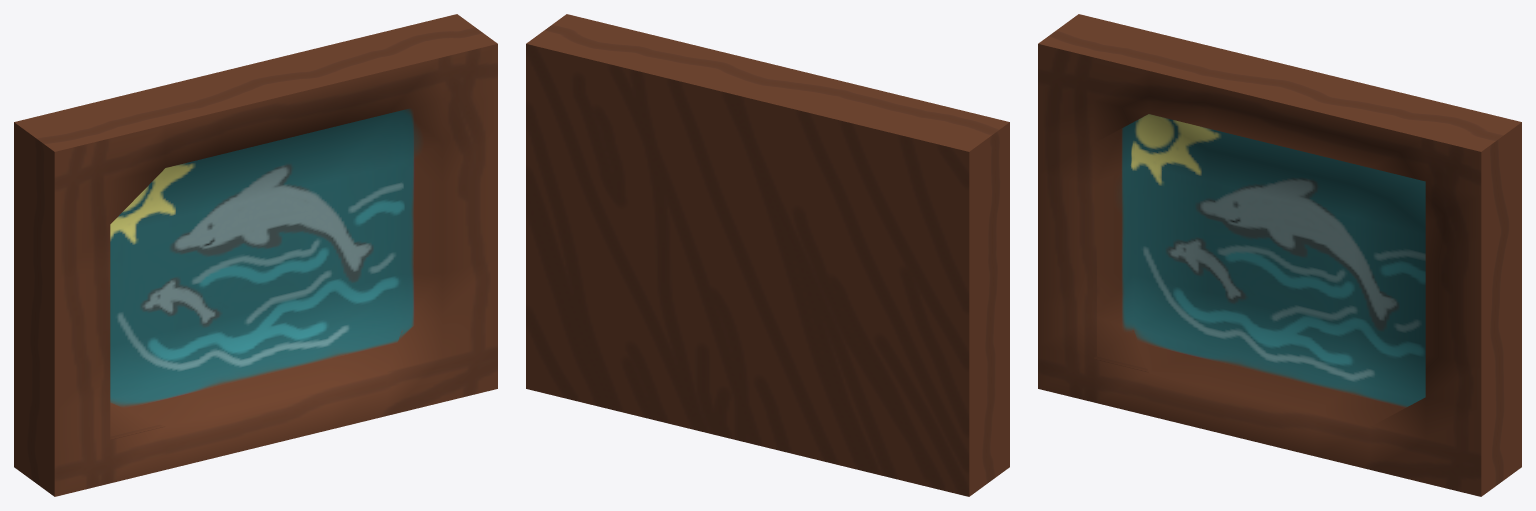
The model's file is painting.fbx.
3 views of the same model, side by side, from view 1: azimuth 30°, elevation 25°; view 2: azimuth 150°, elevation 25°; view 3: azimuth 330°, elevation 25° (orthographic).
Visible parts, largest first — view 1: pCube1; view 2: pCube1; view 3: pCube1.
Part boxes in pixels (box(x1,y1,x2,y2)): pCube1: box(14, 14, 497, 496); pCube1: box(526, 14, 1009, 496); pCube1: box(1038, 14, 1521, 496).
Bounding box in the file's own units: 6.28 × 4.67 × 1.
1 material, 1 textured.
